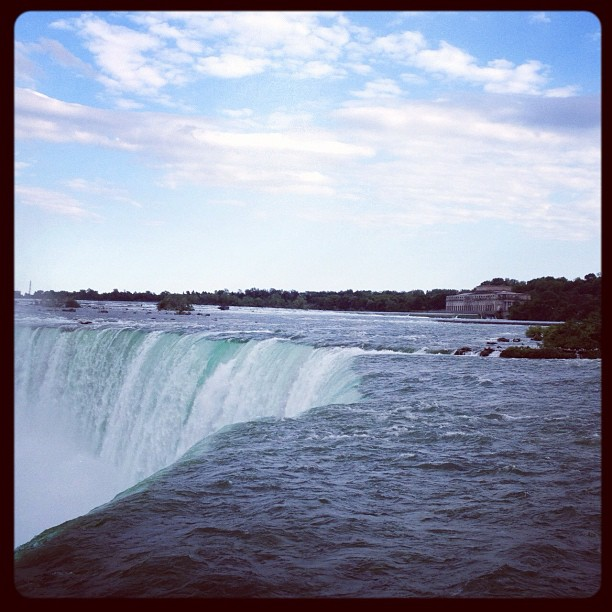building: (441, 277, 527, 323)
sky: (1, 1, 591, 272)
vegetation: (21, 278, 447, 311), (527, 276, 602, 352)
waterfall: (24, 310, 603, 612)
